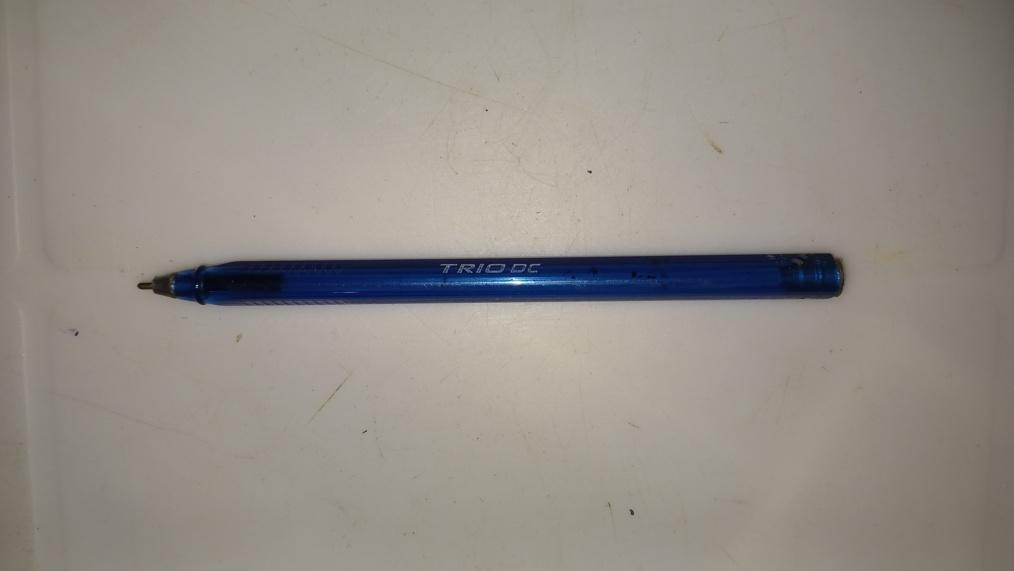pen: (136, 252, 843, 306)
